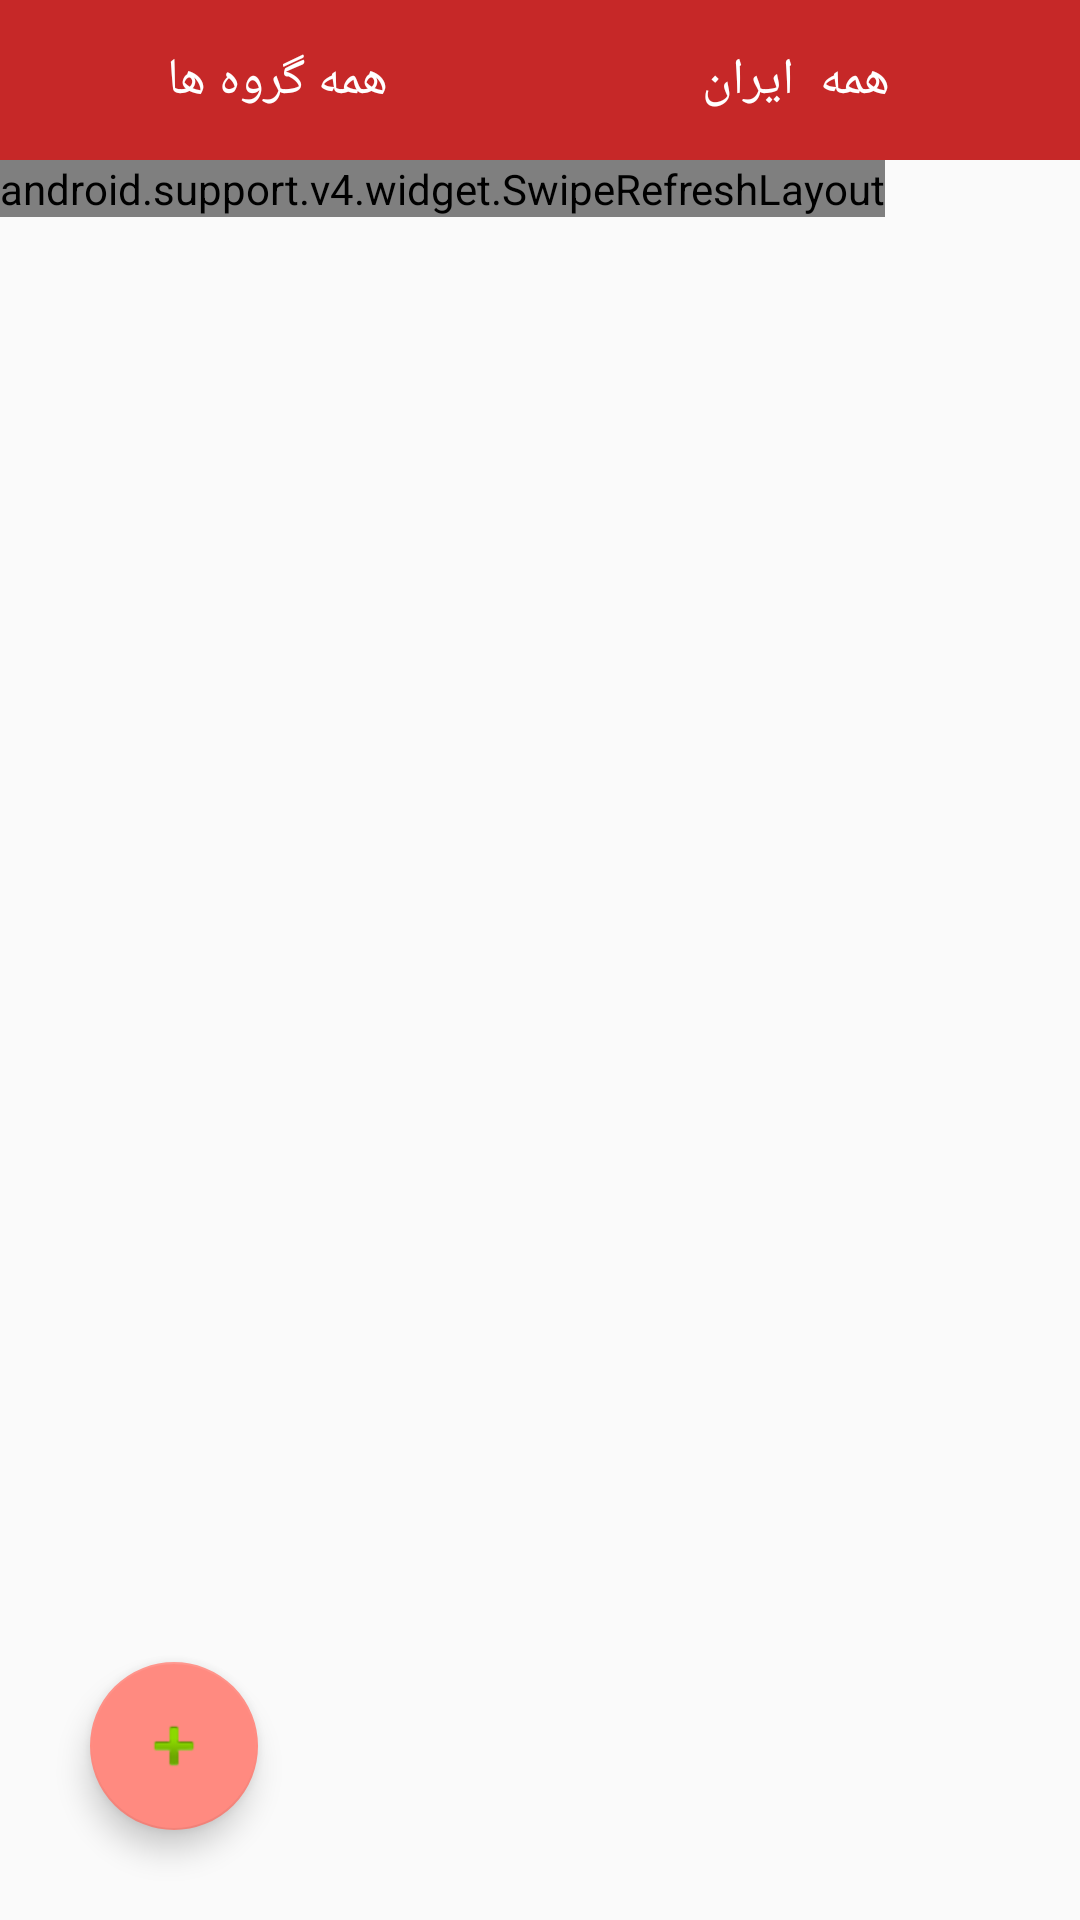

Where to tap for icons on this 1080w x 1920h app screen, as point (x, y):
add: point (174, 1746)
